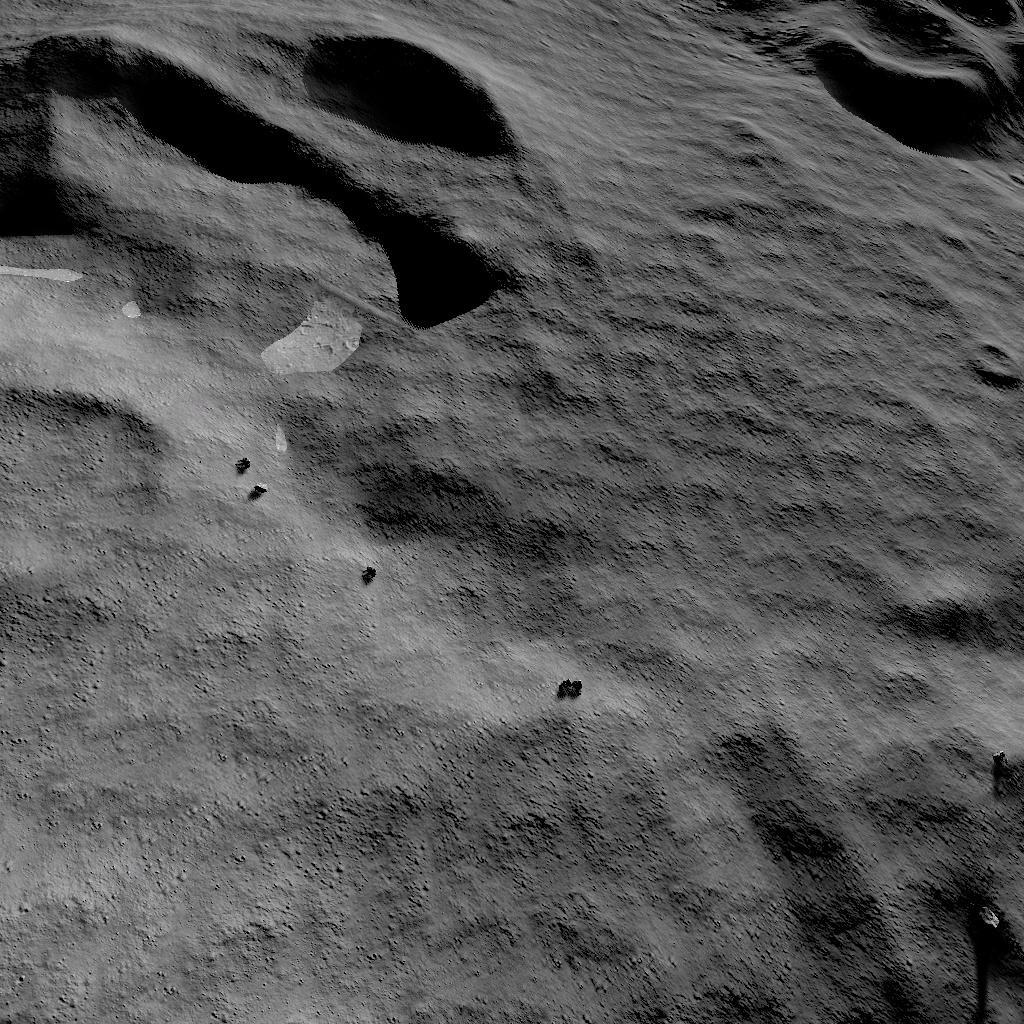Crater: (0, 24, 522, 356), (617, 0, 1024, 182), (0, 384, 168, 626), (957, 338, 1024, 386)
Plan surface: (7, 668, 524, 1024), (591, 287, 909, 806), (547, 820, 893, 1024)
